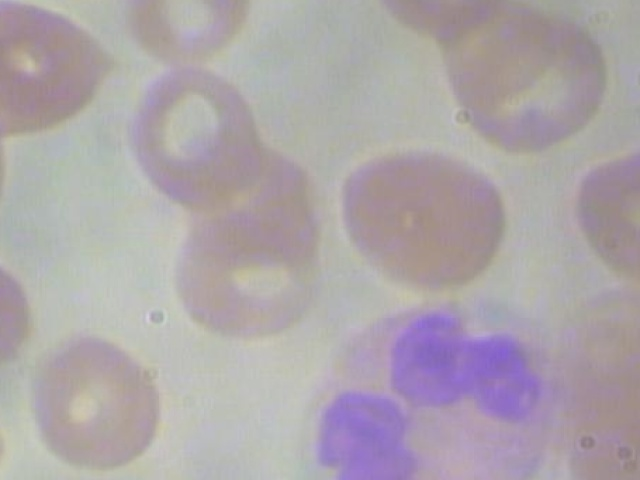RBC: (332, 128, 518, 304), (444, 0, 612, 151), (119, 58, 271, 213), (170, 196, 321, 351), (22, 327, 161, 477), (0, 0, 116, 136), (563, 139, 640, 303), (124, 0, 259, 74), (0, 92, 8, 242), (0, 354, 8, 480)
WBC: (283, 281, 581, 480)
